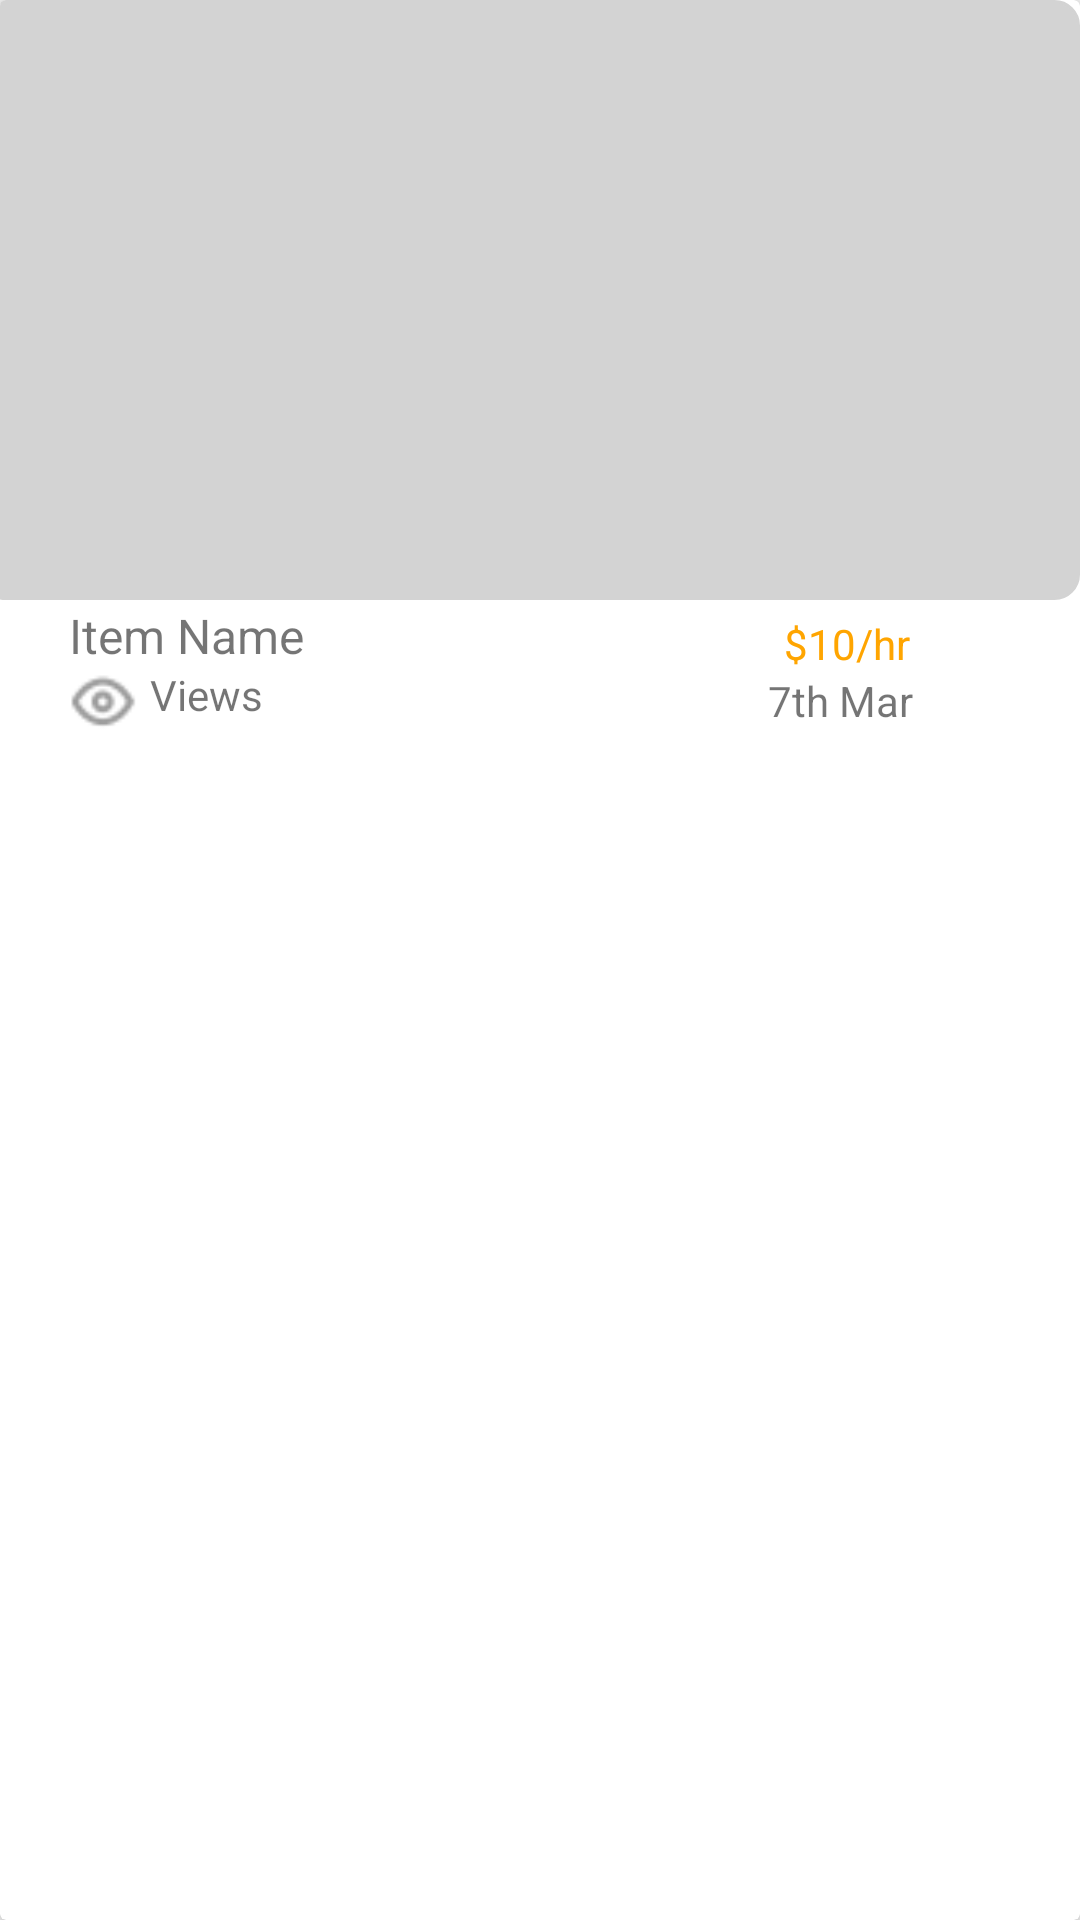

Point at icon controls on the screen. Image size 1080px x 1920px, points as [x,y].
eye: [103,701]
